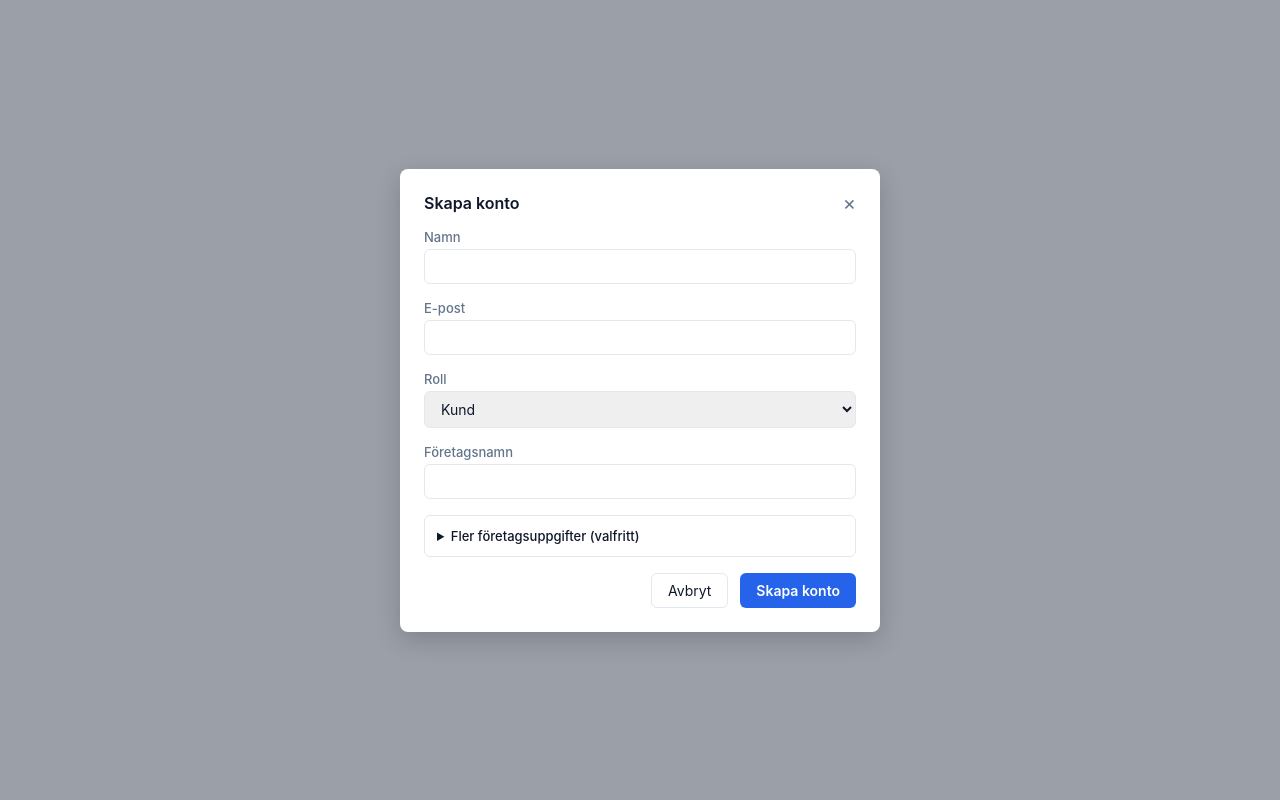
Test: CreateAccountModal › shows the specific, translated message for a duplicate-email 409 instead of the generic copy
In the field labelled "Namn": (640, 266) x1=424 y1=248 x2=856 y2=284, type "Anna Andersson"
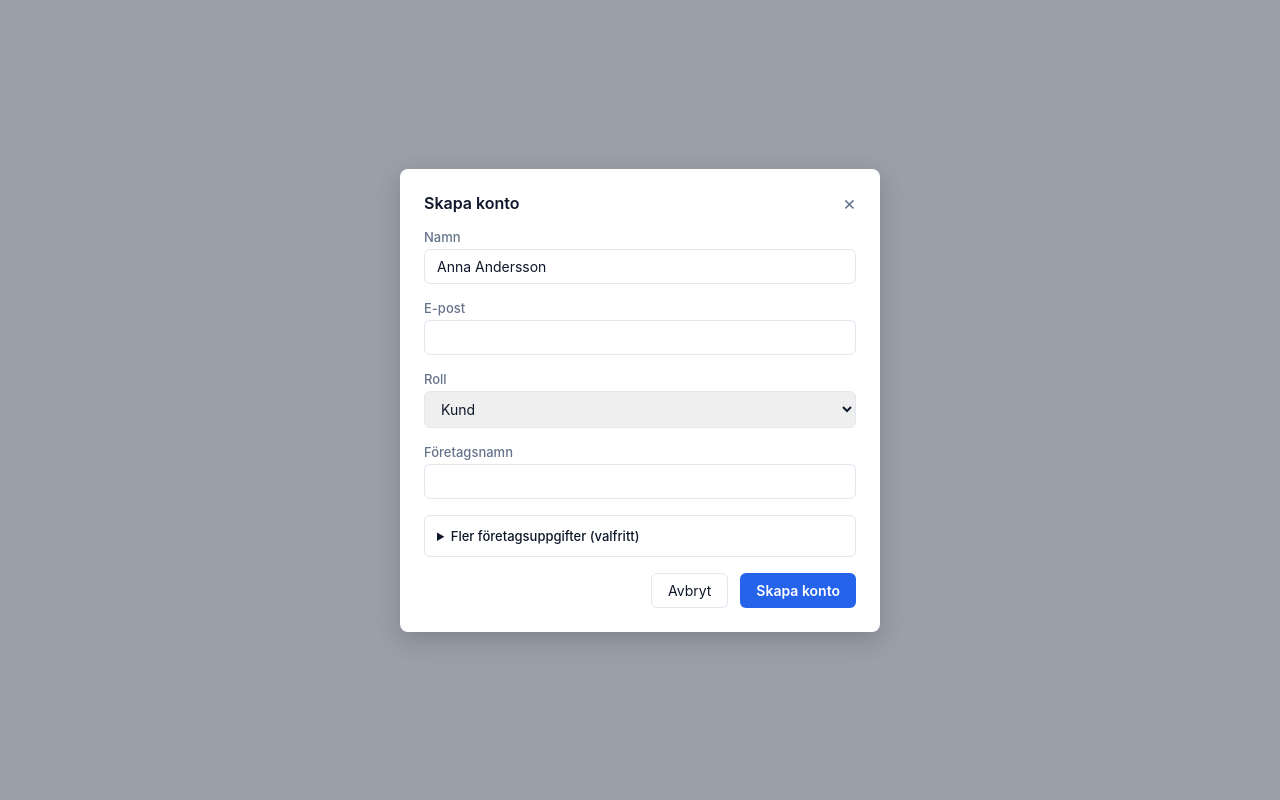
In the field labelled "E-post": (640, 337) x1=424 y1=320 x2=856 y2=354, type "anna@example.com"
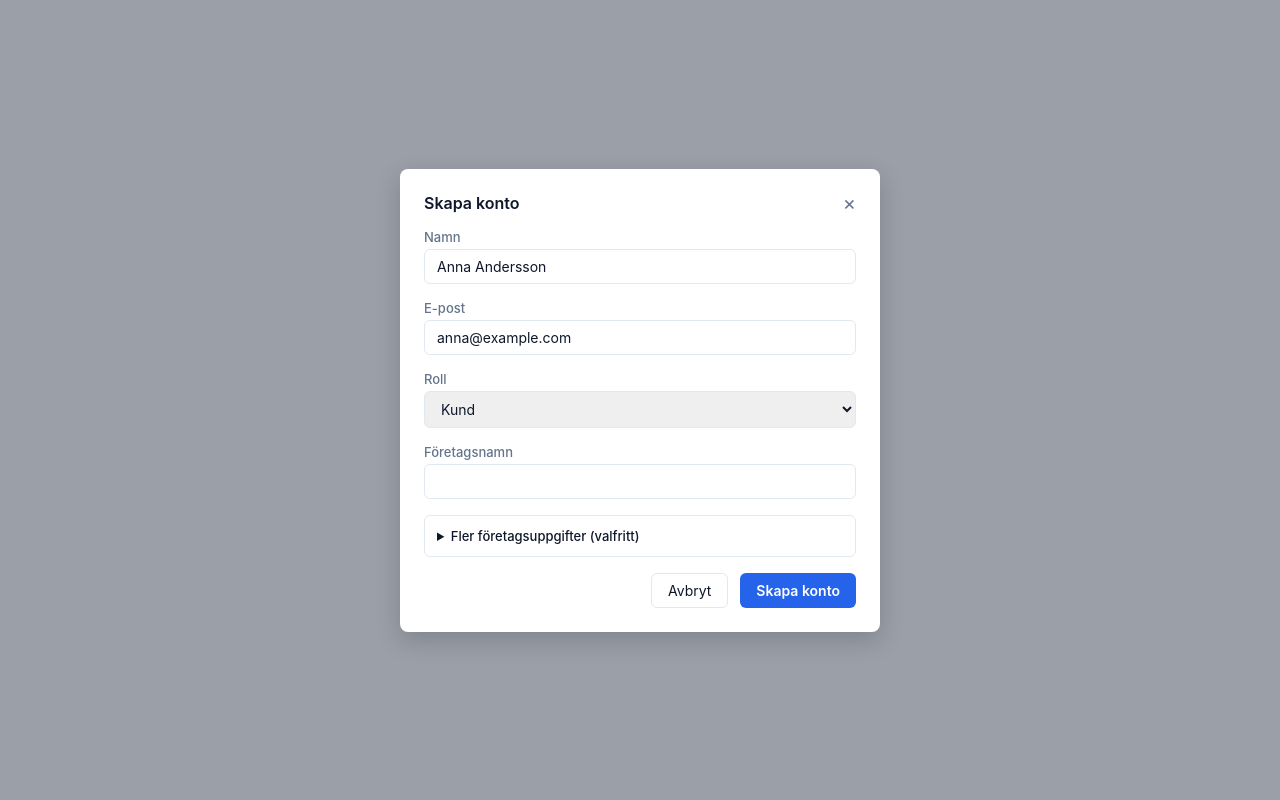
In the field labelled "Företagsnamn": (640, 481) x1=424 y1=464 x2=856 y2=498, type "Acme AB"
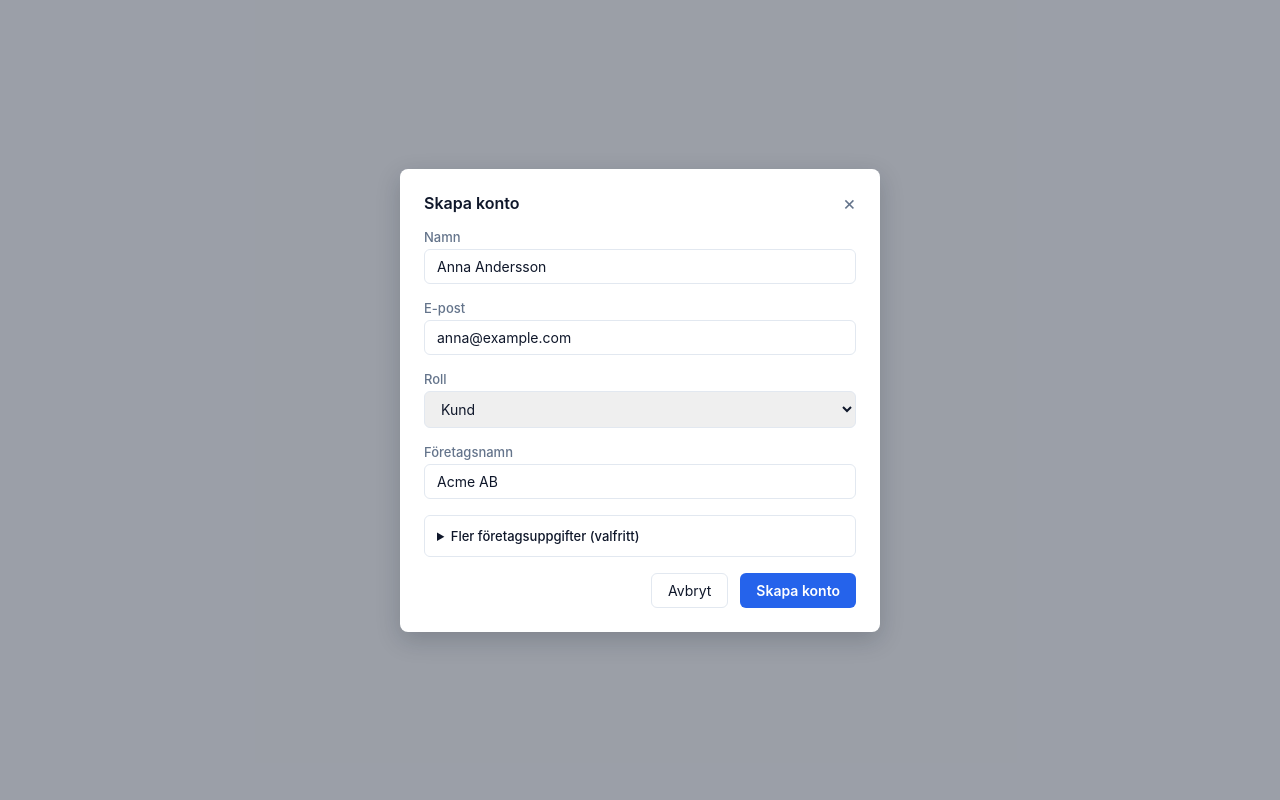
Click the button "Skapa konto": (798, 590) x1=740 y1=572 x2=856 y2=608
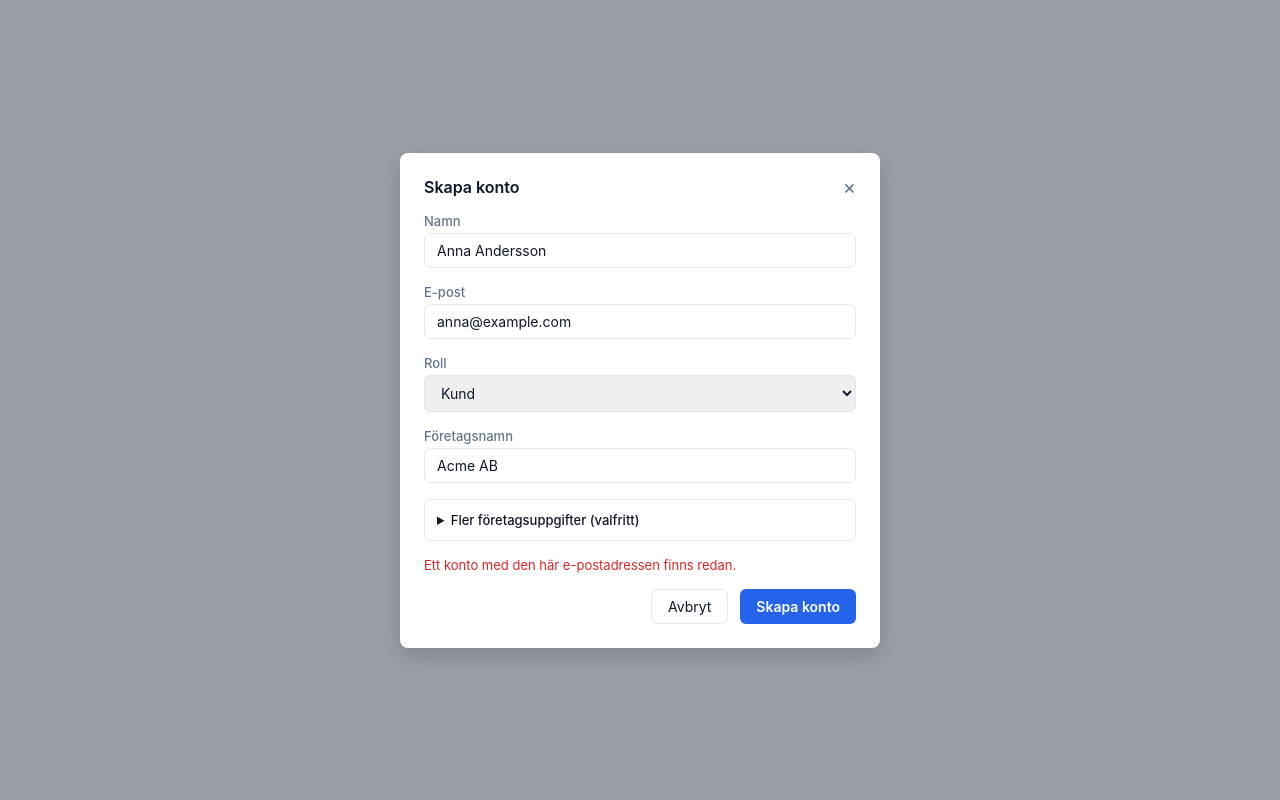
Expected: the message reads "Ett konto med den här e-postadressen finns redan.", x1=424 y1=556 x2=736 y2=572
